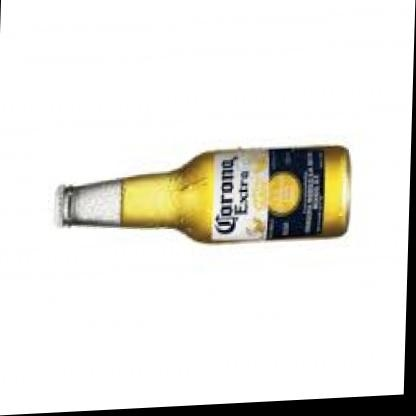trash: (60, 146, 349, 241)
